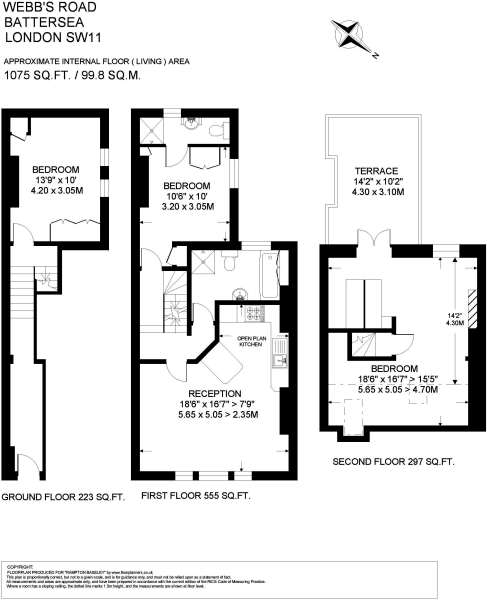GardenMeasurements: (351, 165, 407, 199)
GrossArea: (1, 55, 191, 81)
